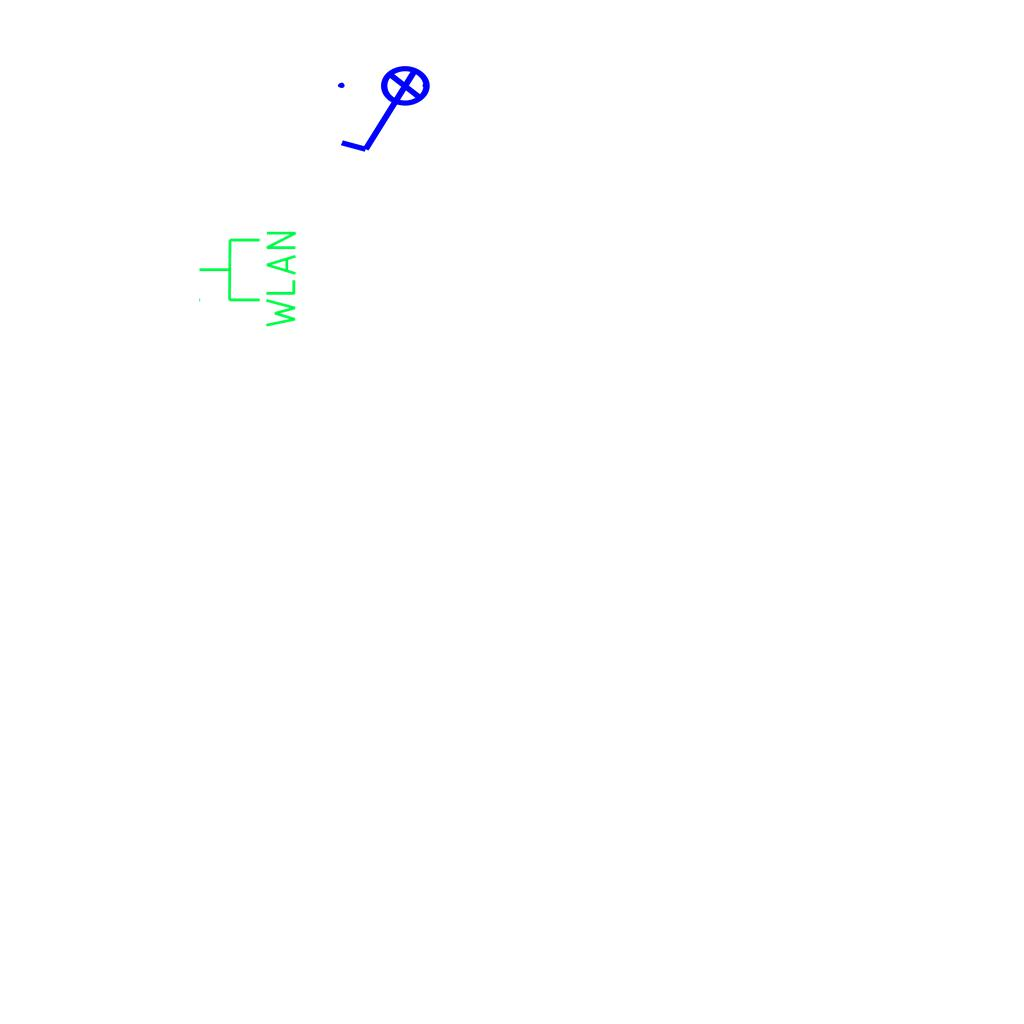Ausschalter_beleuchtet: (332, 64, 444, 160)
WLAN: (196, 227, 300, 332)
